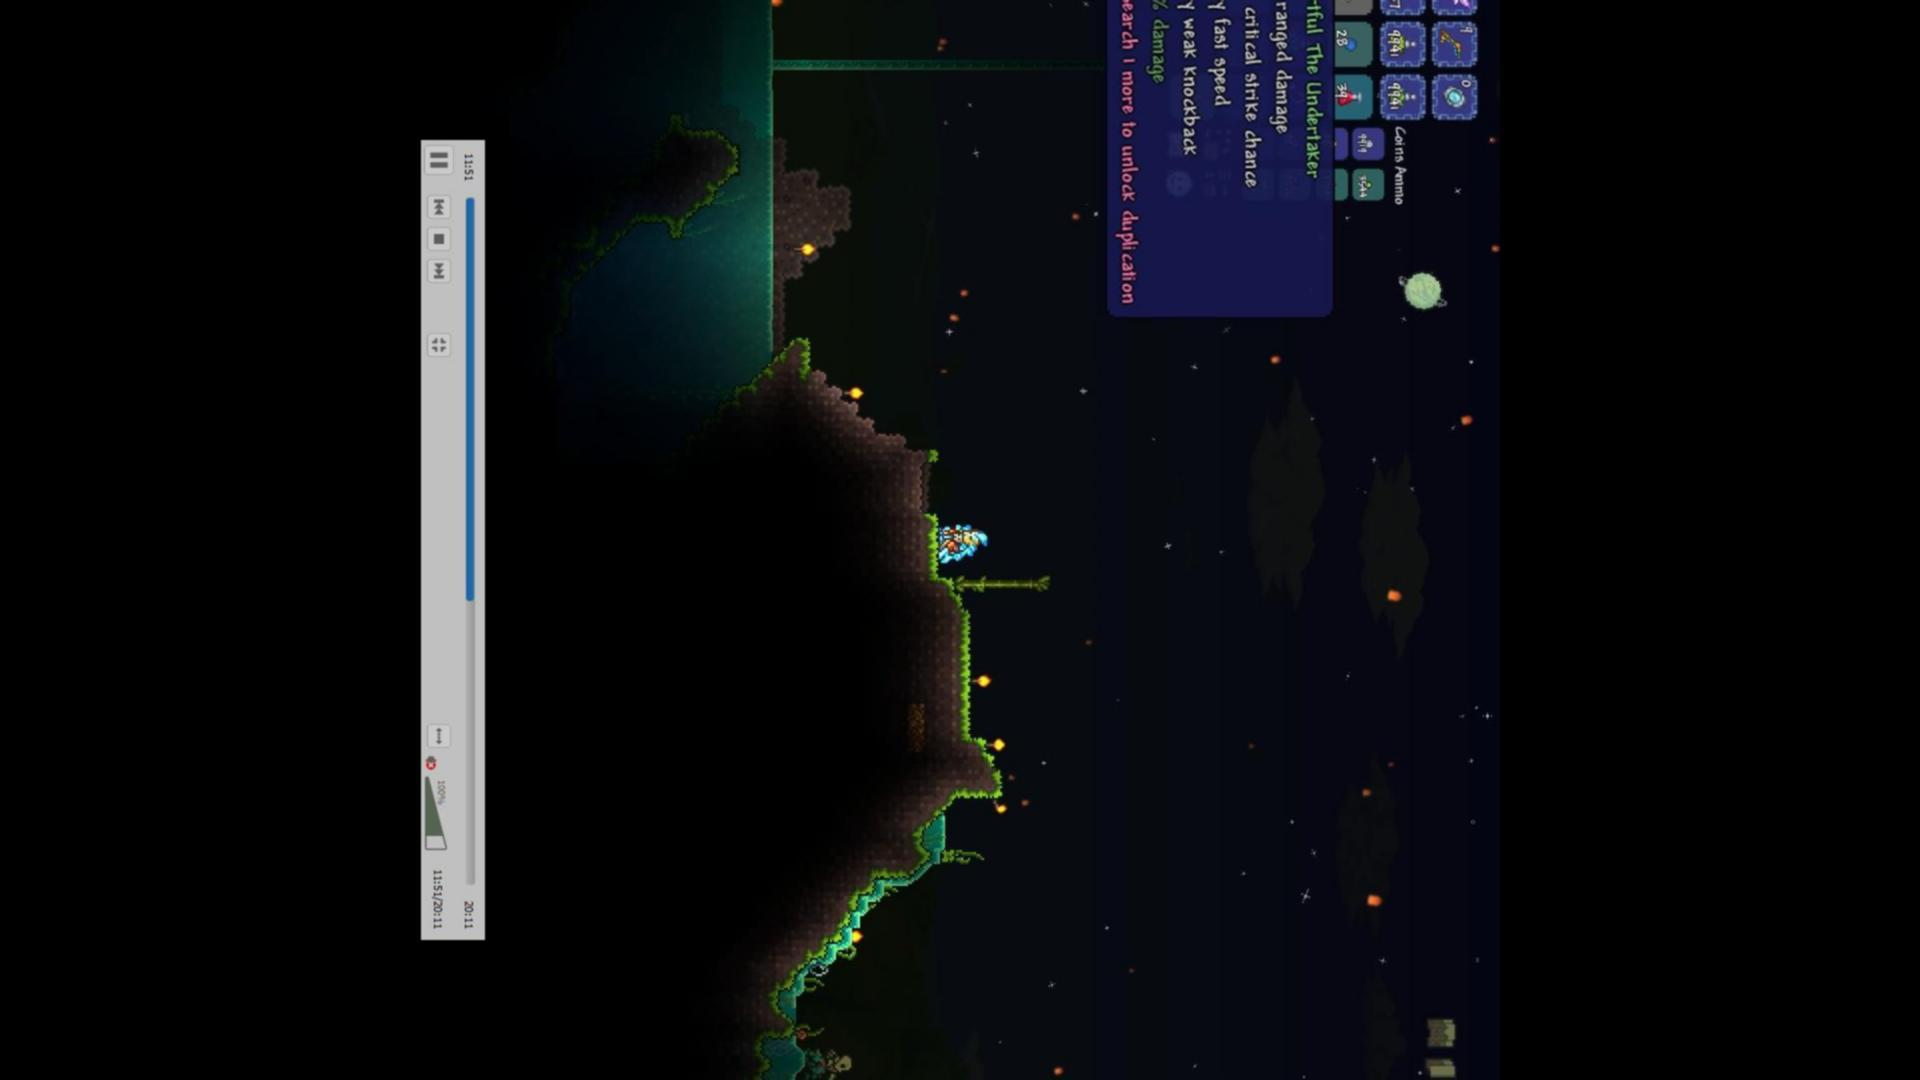lens: (804, 961, 836, 981)
mirror: (1441, 84, 1470, 109)
